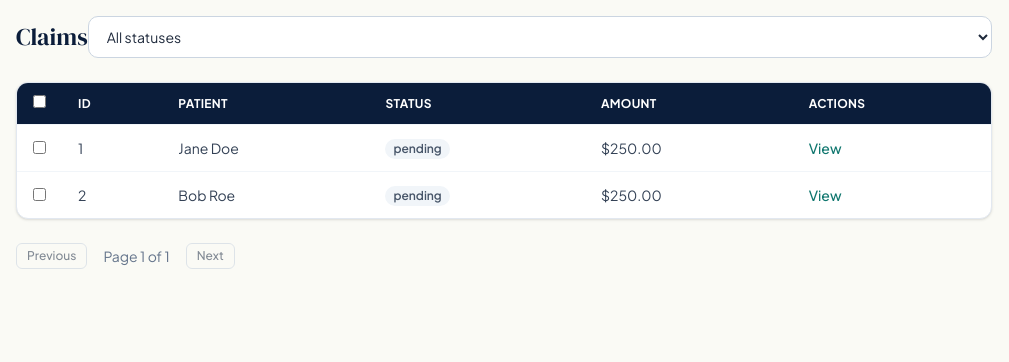
Scenario: ClaimsList › select-all checkbox toggles every row
Expected: the text "Bob Roe" is shown, [162,172,369,218]
Click the checkbox named "Select all rows" at (40, 102), box [33,95,46,108]
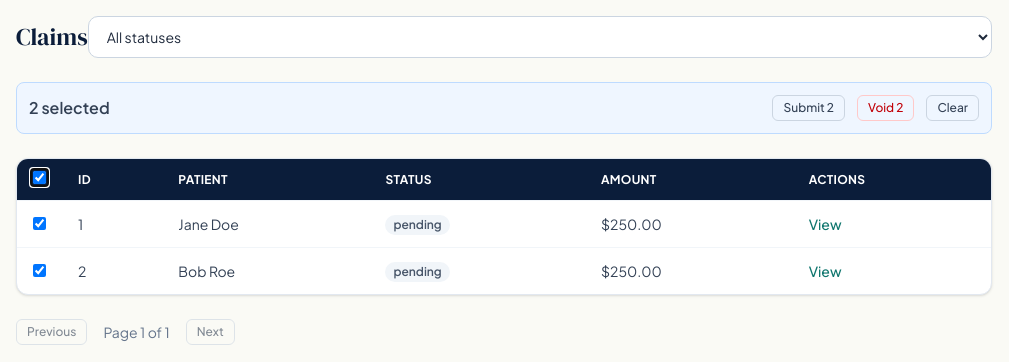
Expected: the text "2 selected" is shown, [29,96,110,120]
